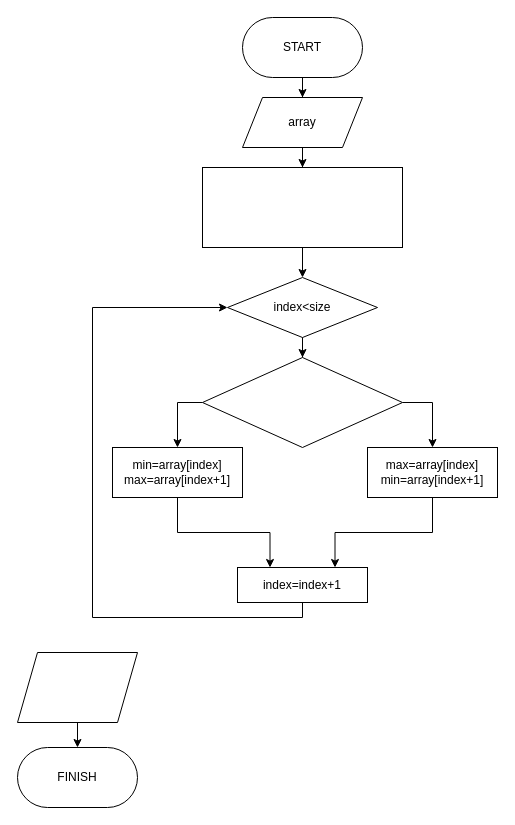
Image size: 515x825. Some labels were removed from this diagram. The shapes that lost their labels are listed below. From the top down, each one's box as (x1, y1, x2, y2) in pixels, then its label:
(202, 166, 402, 248): size=lenght.array min=0 max=0 temp=0 index=0
(202, 356, 402, 448): array[index]<array[index+1]
(16, 652, 138, 722): print(fac)
